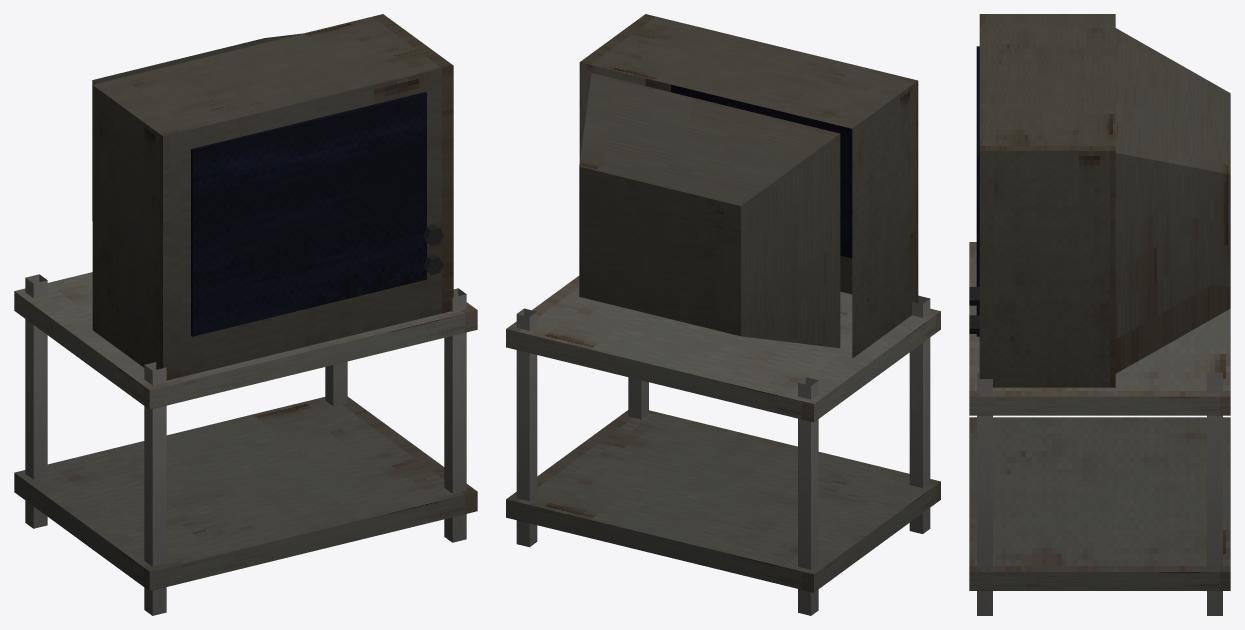
File: prop_tv_cart.glb
3 views of the same model, side by side, from view 1: azimuth 30°, elevation 25°; view 2: azimuth 150°, elevation 25°; view 3: azimuth 270°, elevation 25° (orthographic). The views are drawn at different scales.
Visible parts, largest first — view 1: prop_tv_cart; view 2: prop_tv_cart; view 3: prop_tv_cart.
Boxes of the visible parts, x1,y1,x2,y2 form: prop_tv_cart: (14,14,477,615); prop_tv_cart: (506,14,940,615); prop_tv_cart: (969,14,1230,615).
Size of the model in its own units: 0.7 by 0.97 by 0.5.
5 materials, 5 textured.
